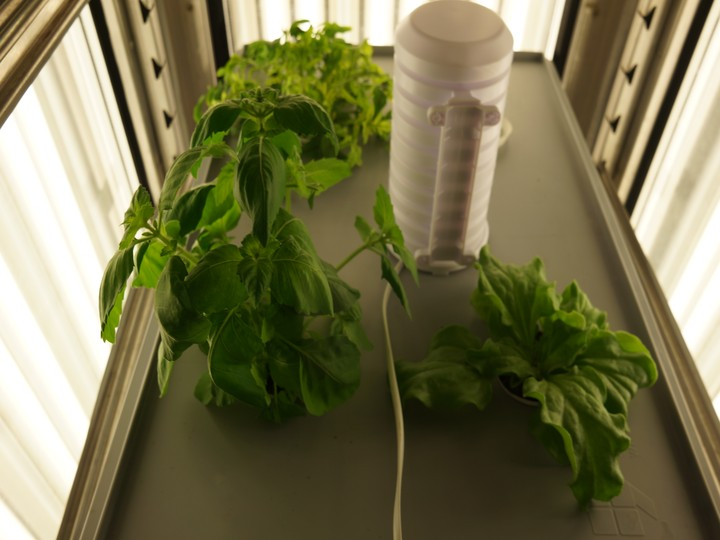basilic_blue_spice: (89, 85, 430, 452)
ficoide_glaciale: (392, 247, 666, 513)
roquette_sauvage_red_veined: (190, 23, 390, 138)
